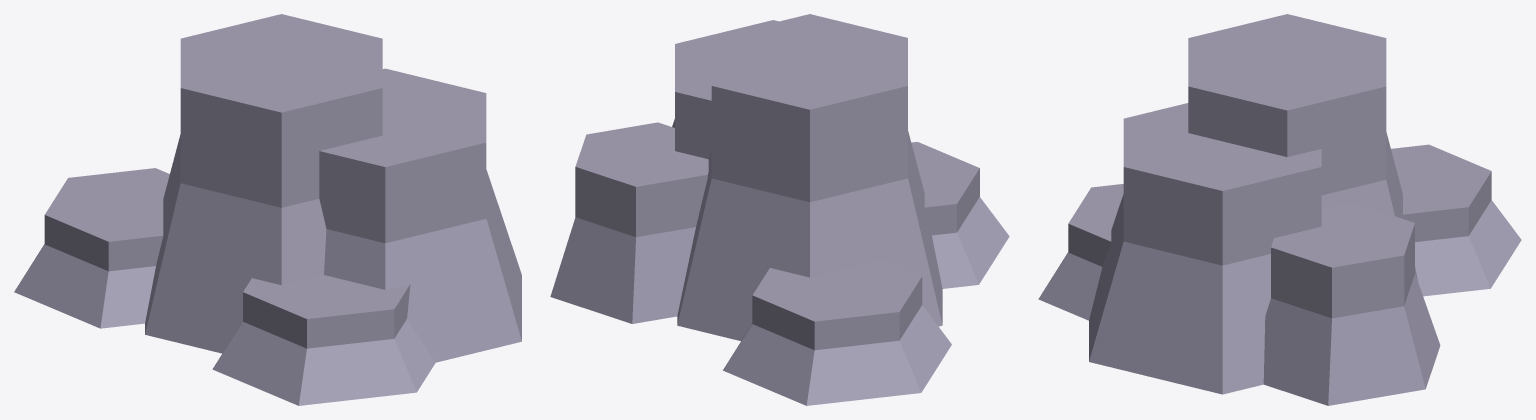
File: rock_largeB.glb
3 views of the same model, side by side, from view 1: azimuth 30°, elevation 25°; view 2: azimuth 150°, elevation 25°; view 3: azimuth 270°, elevation 25° (orthographic). The views are drawn at different scales.
Visible parts, largest first — view 1: rock_largeB; view 2: rock_largeB; view 3: rock_largeB.
Boxes of the visible parts, x1,y1,x2,y2 form: rock_largeB: (14, 14, 521, 405); rock_largeB: (550, 14, 1009, 405); rock_largeB: (1038, 14, 1521, 405).
Size of the model in its own units: 0.9278 by 0.5 by 0.9393.
